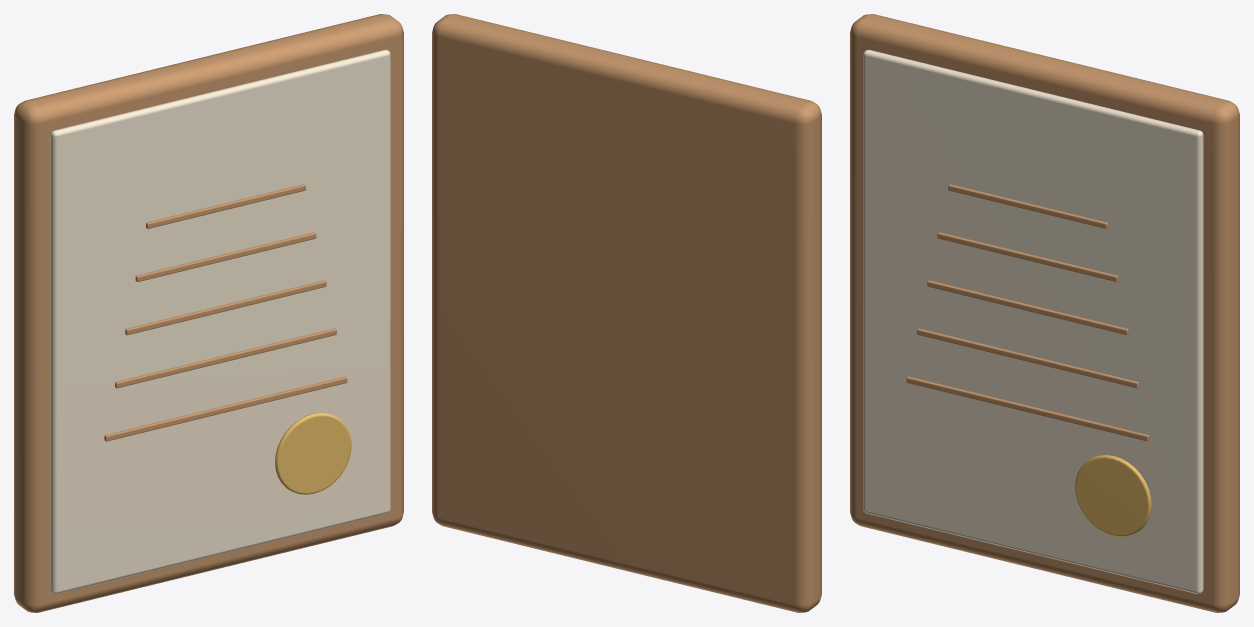
File: officeDiploma.glb
The picture shows the model from 3 angles, left to right: view 1: azimuth 30°, elevation 25°; view 2: azimuth 150°, elevation 25°; view 3: azimuth 330°, elevation 25°; orthographic projection.
Visible parts, largest first — view 1: Paper, Frame, Gold seal, Certificate line, Certificate line.001, Certificate line.002, Certificate line.003, Certificate line.004; view 2: Frame; view 3: Paper, Frame, Gold seal, Certificate line, Certificate line.001, Certificate line.002, Certificate line.003, Certificate line.004.
Part boxes in pixels (box(x1,y1,x2,y2)): Paper: box(50, 49, 390, 593); Frame: box(14, 14, 403, 612); Gold seal: box(275, 413, 351, 494); Certificate line: box(104, 376, 347, 441); Certificate line.001: box(115, 328, 336, 388); Certificate line.002: box(125, 280, 326, 335); Certificate line.003: box(135, 232, 316, 281); Certificate line.004: box(146, 184, 305, 228); Frame: box(432, 14, 821, 612); Paper: box(863, 49, 1203, 593); Frame: box(850, 14, 1239, 612); Gold seal: box(1075, 455, 1151, 536); Certificate line: box(906, 376, 1149, 441); Certificate line.001: box(917, 328, 1138, 388); Certificate line.002: box(927, 280, 1128, 335); Certificate line.003: box(937, 232, 1118, 281); Certificate line.004: box(948, 184, 1107, 228).
Bounding box in the file's own units: 1.1 × 1.4 × 0.147.
